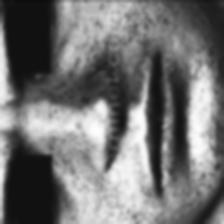Unclassified: (134, 0, 160, 26), (60, 87, 76, 122), (139, 213, 166, 224), (204, 132, 216, 156)
